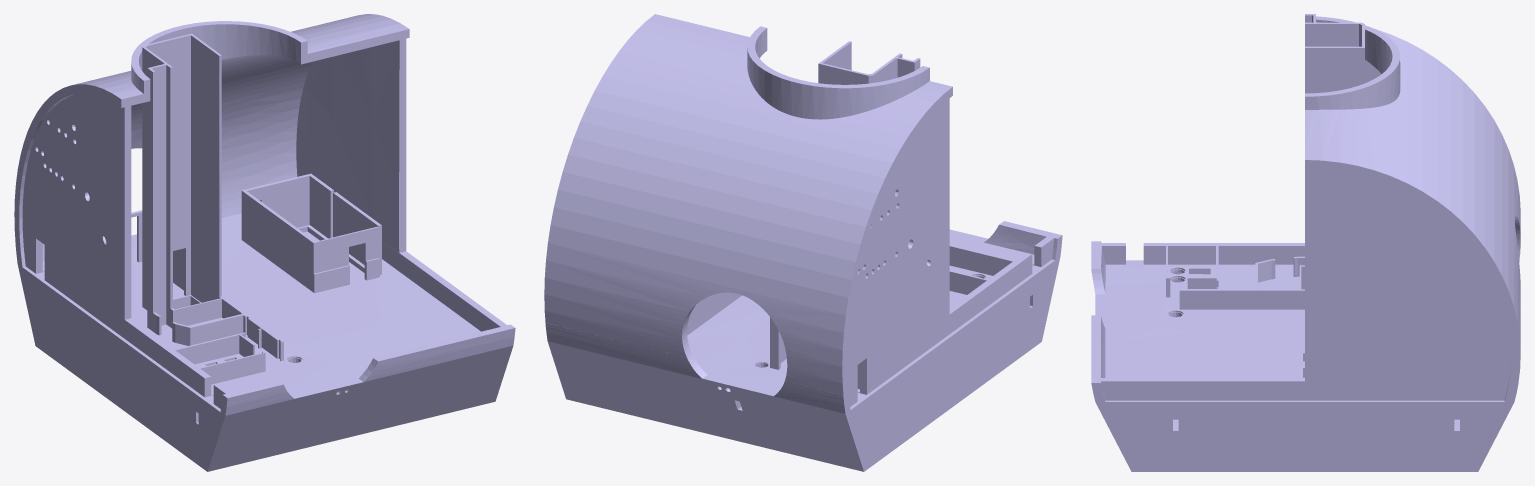
Rendered from US15-cut4.glb.
The picture shows the model from 3 angles, left to right: view 1: azimuth 30°, elevation 25°; view 2: azimuth 150°, elevation 25°; view 3: azimuth 270°, elevation 25°; orthographic projection. The views are drawn at different scales.
Visible parts, largest first — view 1: S_Mesh_0-148; view 2: S_Mesh_0-148; view 3: S_Mesh_0-148.
Boxes of the visible parts, x1,y1,x2,y2 form: S_Mesh_0-148: (14,14,515,471); S_Mesh_0-148: (544,14,1062,471); S_Mesh_0-148: (1091,14,1520,471).
Size of the model in its own units: 17.4 by 19 by 22.29.
